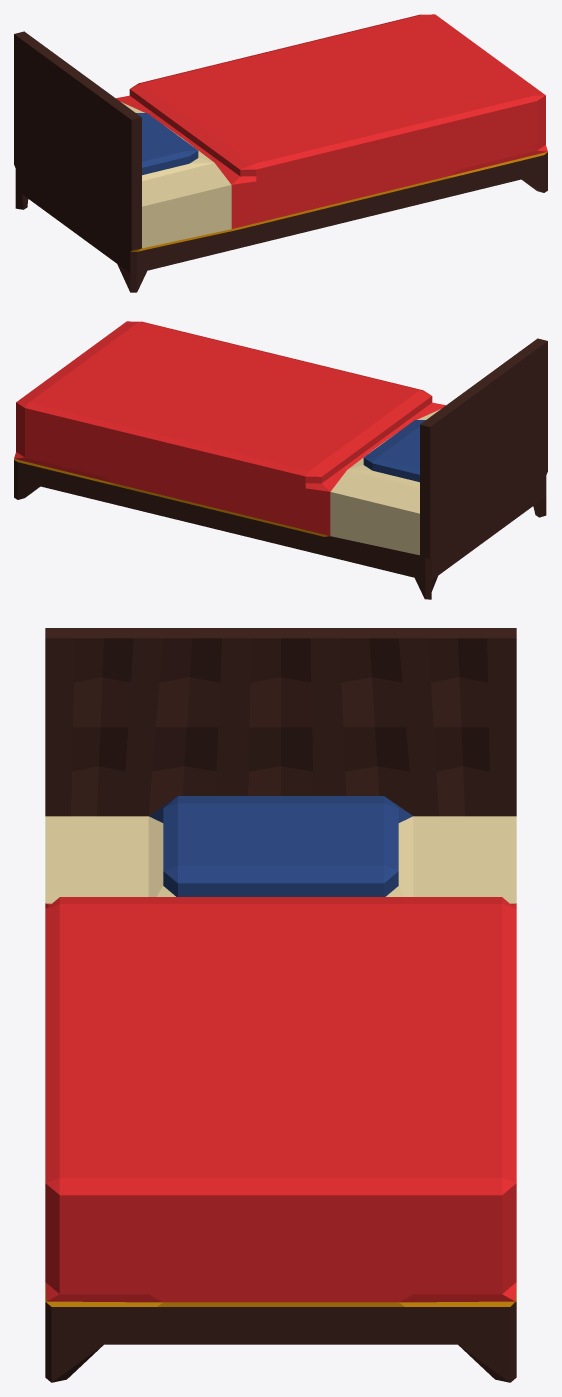
The model's file is cockroach_bed.fbx.
3 views of the same model, one above another, from view 1: azimuth 30°, elevation 25°; view 2: azimuth 150°, elevation 25°; view 3: azimuth 270°, elevation 25° (orthographic). The views are drawn at different scales.
Visible parts, largest first — view 1: Cube; view 2: Cube; view 3: Cube.
Boxes of the visible parts, bbox=[...] form: Cube: bbox=[14, 14, 547, 292]; Cube: bbox=[14, 321, 547, 599]; Cube: bbox=[45, 628, 516, 1382].
Size of the model in its own units: 1258 by 499 by 615.
